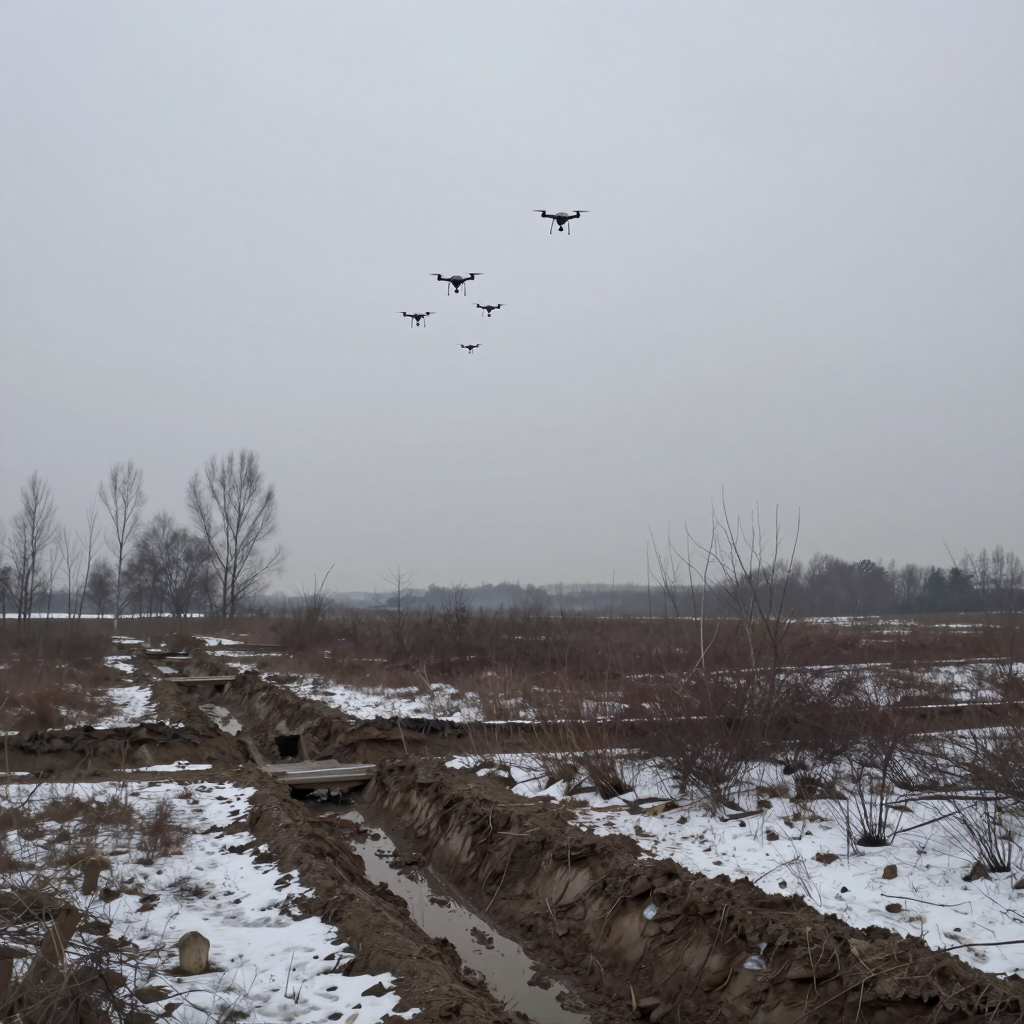drone: (533, 210, 590, 235), (429, 273, 484, 296), (396, 312, 437, 328), (473, 303, 506, 317), (457, 343, 482, 354)
